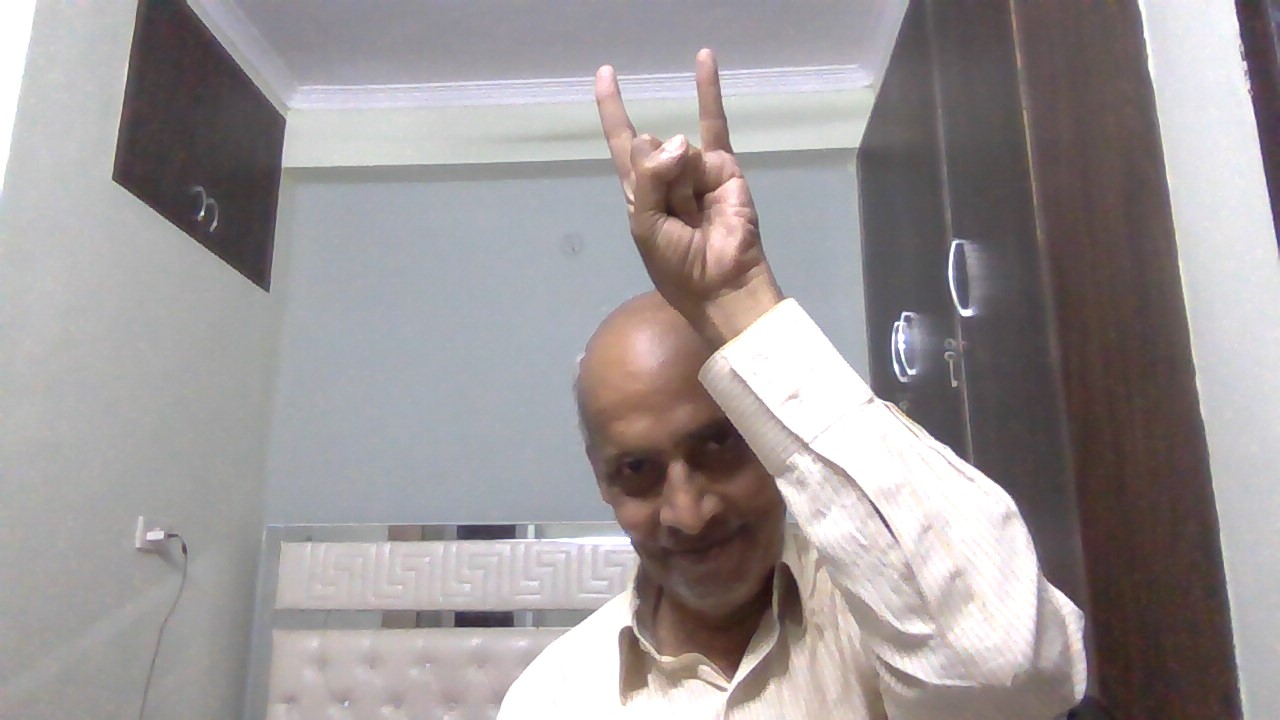Select All: (575, 40, 777, 303)
